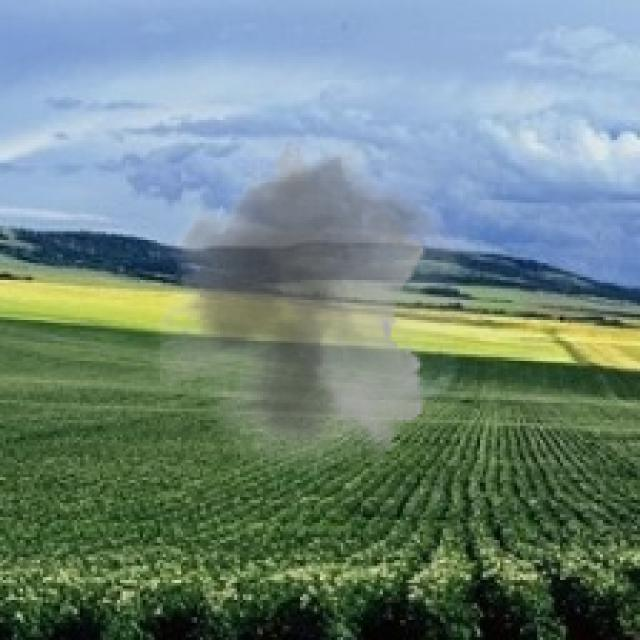smoke: (137, 129, 497, 474)
